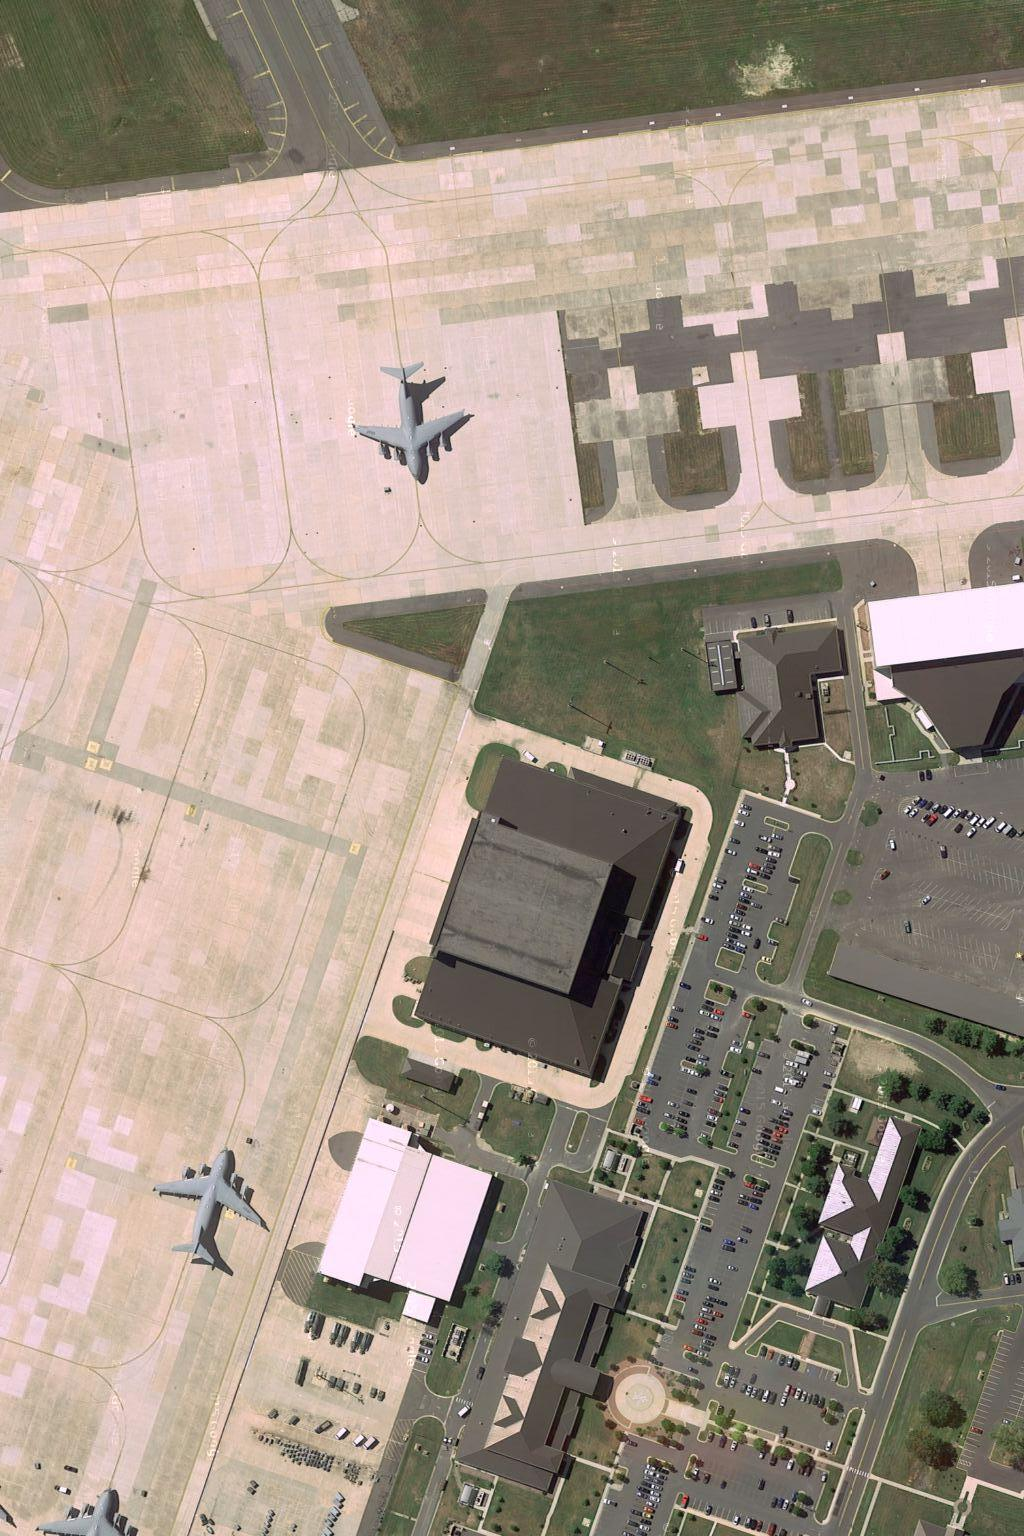C-17: (153, 1141, 279, 1275), (347, 352, 467, 485)
